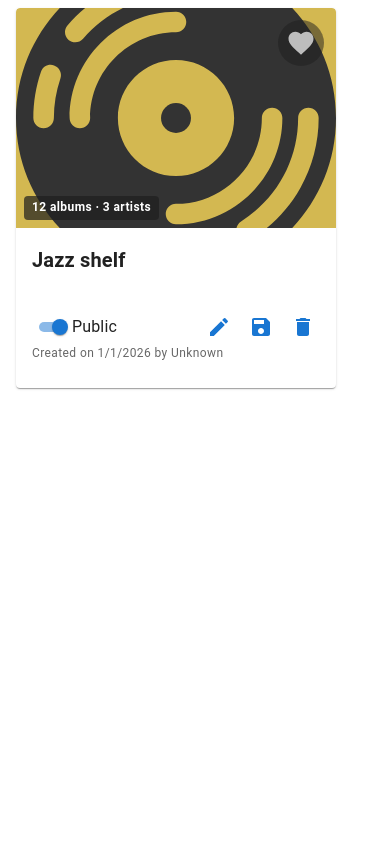
Test: CollectionItem › explains that a collection has one save only, without asking the API
Click the button named "Save".
click(261, 327)  # box [244,310,278,344]
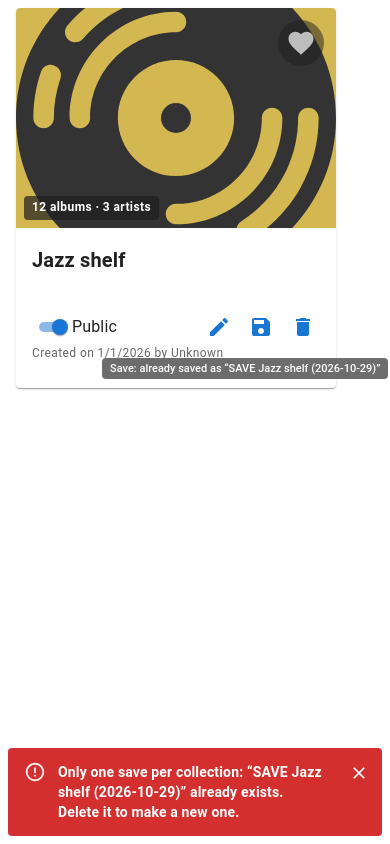
Result: the text "Only one save per collection: “SAVE Jazz shelf (2026-10-29)” already exists. Delete it to make a new one." is shown at [58,764,322,820]
